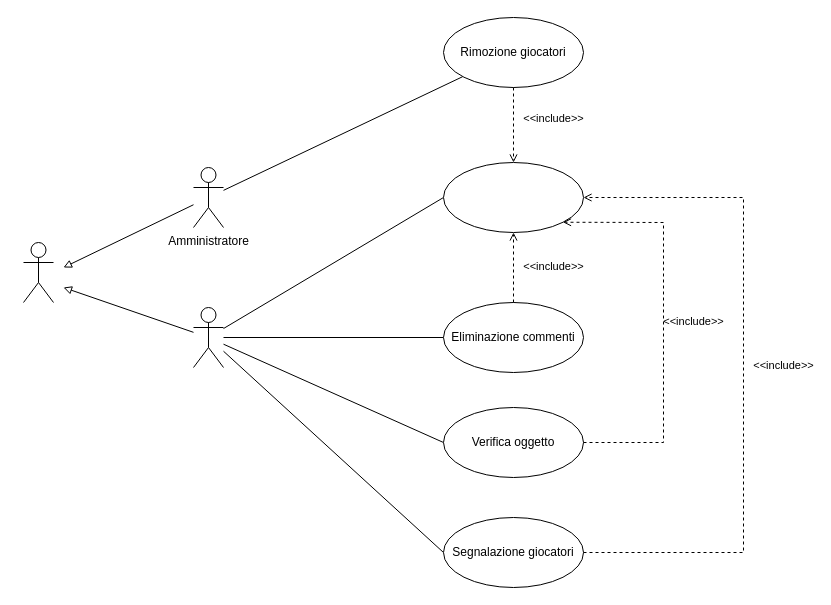
This 831x605 diagram has some shape labels left out. Each missing label, with the centre of its shape:
"Gestore" goes at point 38,272.
"Moderatore" goes at point 208,337.
"Visualizzazione attività giocatori" goes at point 513,197.
